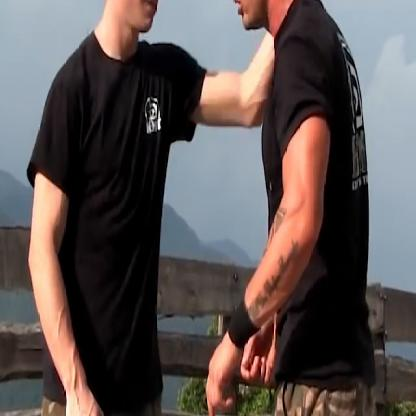knife: (59, 403, 162, 415)
